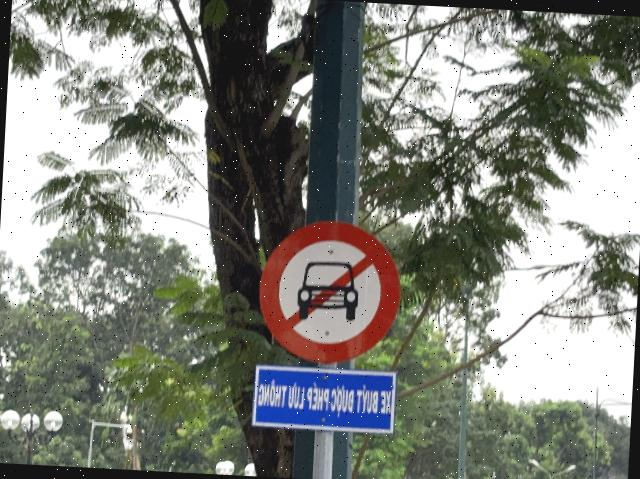cam-o-to: (255, 218, 405, 368)
